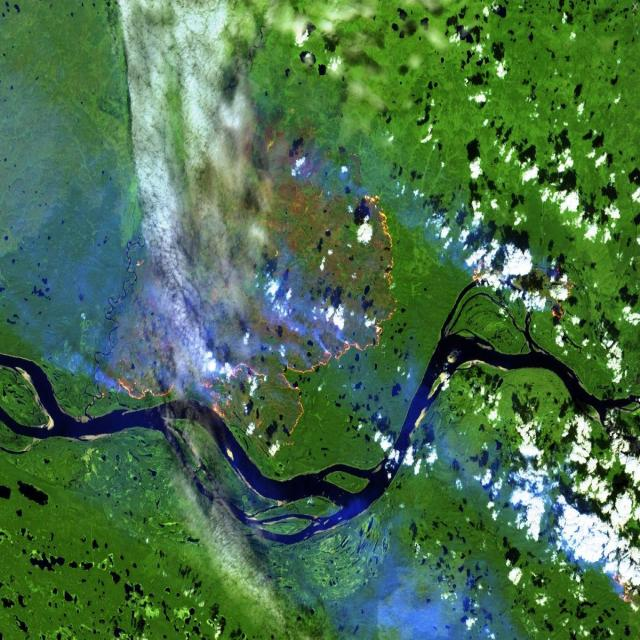fire: (114, 185, 406, 452), (457, 251, 576, 330), (609, 564, 640, 610)
